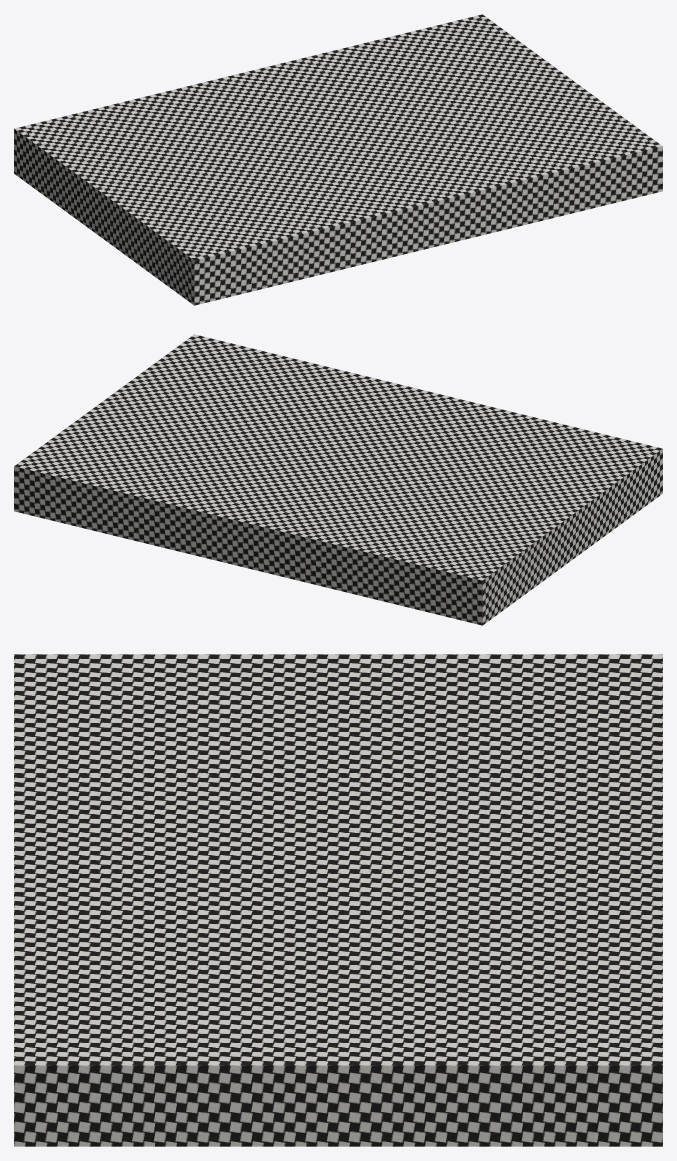
Rendered from Floor.fbx.
3 views of the same model, one above another, from view 1: azimuth 30°, elevation 25°; view 2: azimuth 150°, elevation 25°; view 3: azimuth 270°, elevation 25° (orthographic). The views are drawn at different scales.
Parts seen in each view (by area): view 1: Floor_Baked; view 2: Floor_Baked; view 3: Floor_Baked.
Part boxes in pixels (box(x1,y1,x2,y2)): Floor_Baked: box(14, 14, 662, 305); Floor_Baked: box(14, 334, 662, 625); Floor_Baked: box(14, 654, 662, 1146).
Bounding box in the file's own units: 1200 × 110 × 800.
1 material, 1 textured.
